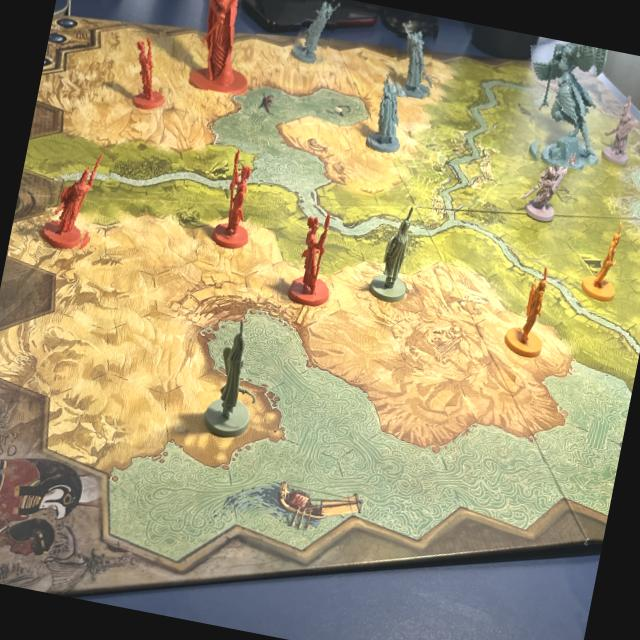amon: (186, 0, 267, 97)
amon_follower: (36, 134, 115, 258), (203, 138, 278, 258), (278, 202, 346, 310), (114, 25, 178, 115)
isis: (515, 36, 616, 176)
isis_follower: (362, 68, 414, 158), (387, 18, 442, 102), (290, 0, 343, 73)
